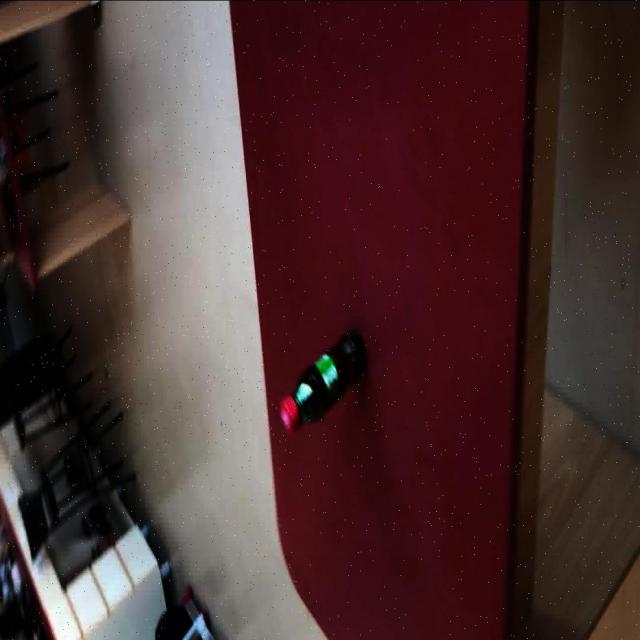Guarana: (278, 329, 367, 432)
